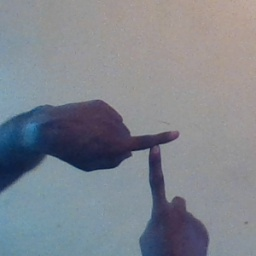T: (106, 103, 204, 227)
